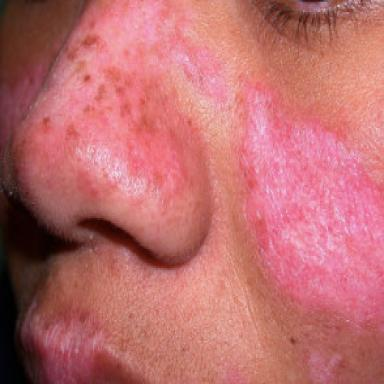Lupus-Erythematosus-Chronicus-Discoides: (18, 3, 227, 199), (240, 83, 384, 326), (21, 305, 102, 381)
